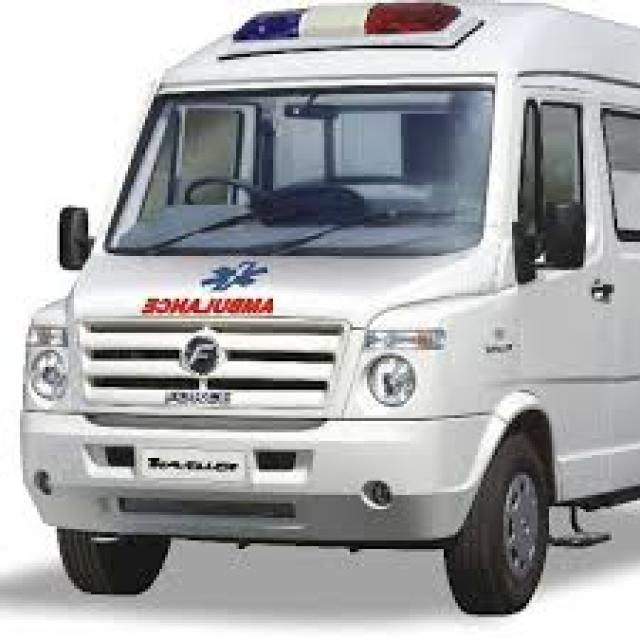ambulance: (27, 0, 640, 610)
